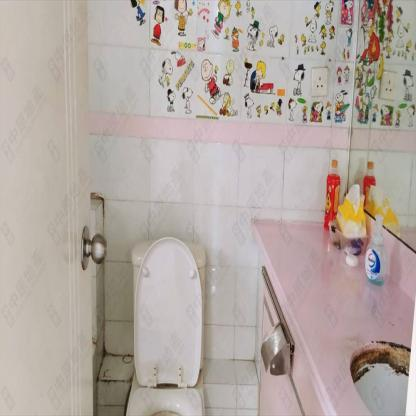Toilet: (125, 235, 207, 415)
Toilet Sink: (351, 340, 411, 415)
